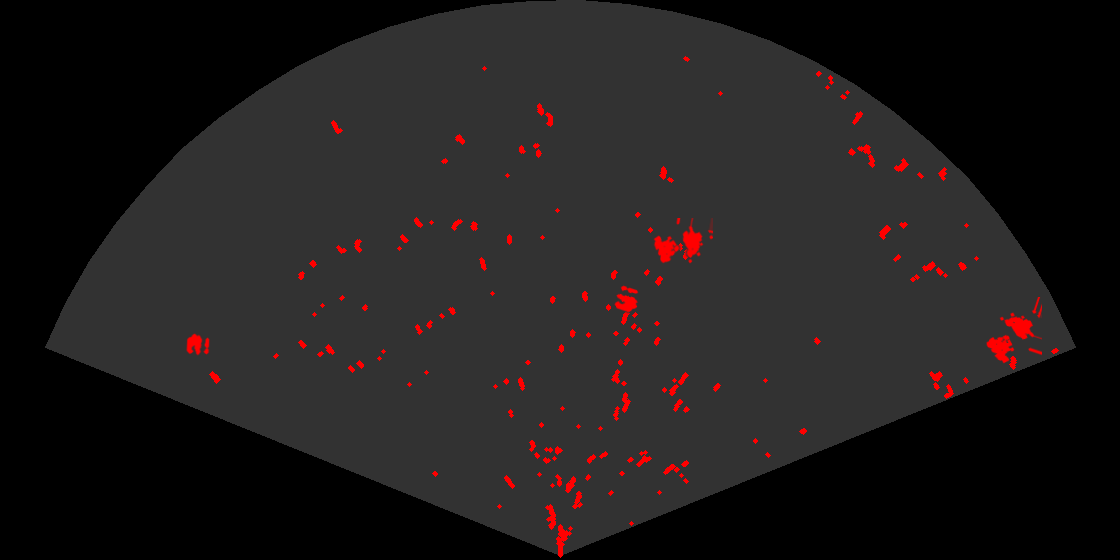ball: (613, 284, 640, 314), (185, 332, 211, 357)
cage: (985, 297, 1042, 365), (652, 218, 713, 265)
